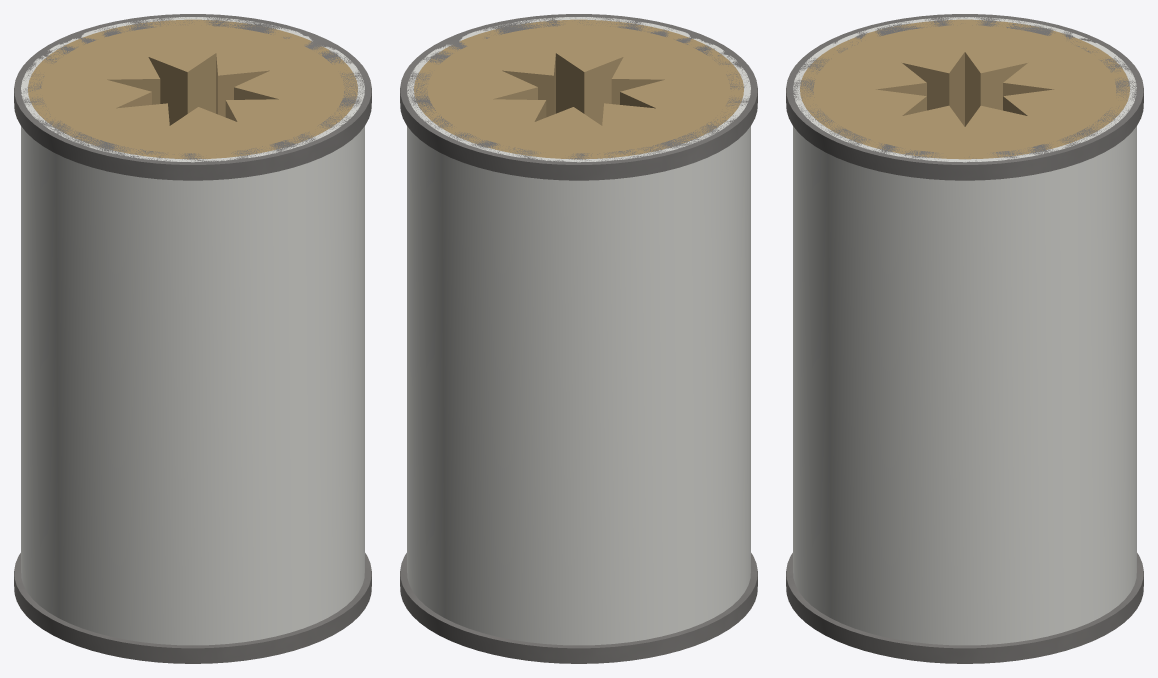
Rendered from tank06_solid_segment.glb.
3 renders of one model, left to right at view 1: azimuth 30°, elevation 25°; view 2: azimuth 150°, elevation 25°; view 3: azimuth 270°, elevation 25°, orthographic.
Parts seen in each view (by area): view 1: casing, grain, joint_flanges; view 2: casing, grain, joint_flanges; view 3: casing, grain, joint_flanges.
Boxes of the visible parts, x1,y1,x2,y2 form: casing: (21,17,364,645); grain: (28,19,357,159); joint_flanges: (14,14,371,663); casing: (407,17,750,645); grain: (414,19,743,159); joint_flanges: (400,14,757,663); casing: (793,17,1136,645); grain: (800,19,1129,159); joint_flanges: (786,14,1143,663).
Bounding box in the file's own units: 1.3 × 2 × 1.3.
3 materials, 1 textured.
